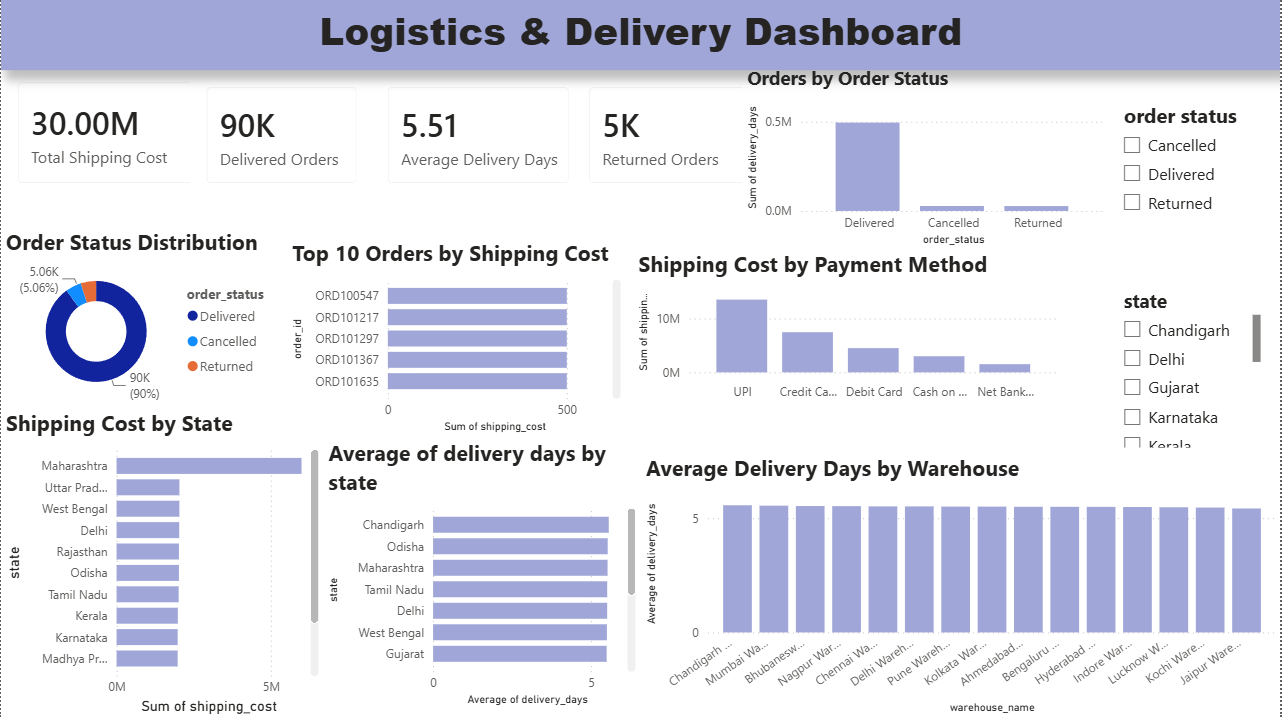

This screenshot's page, from the dashboard's own definition file:
{"tool":"powerbi","page":{"name":"Logistics Dashboard","canvas":[1280,720],"ordinal":3},"visuals":[{"type":"cardVisual","fields":{"Data":["public calendar.Total Shipping Cost"]},"box":[0,65.7,211.4,135.7],"z":0},{"type":"cardVisual","fields":{"Data":["public calendar.Average Delivery Days"]},"box":[370,71.4,215.7,130],"z":1000},{"type":"cardVisual","fields":{"Data":["public calendar.Delivered Orders"]},"box":[188.6,71.4,184.3,130],"z":2000},{"type":"cardVisual","fields":{"Data":["public calendar.Returned Orders"]},"box":[571.4,71.4,215.7,130],"z":3000},{"type":"donutChart","title":"Order Status Distribution","fields":{"Category":["public orders.order_status"],"Y":["CountNonNull(public orders.order_id)"]},"box":[0,227.1,285.7,181.4],"z":4000},{"type":"clusteredBarChart","title":"Shipping Cost by State","fields":{"Category":["public warehouses.state"],"Y":["Sum(public orders.shipping_cost)"]},"box":[0,408.6,322.9,311.4],"z":5000},{"type":"clusteredColumnChart","title":"Average Delivery Days by Warehouse","fields":{"Category":["public warehouses.warehouse_name"],"Y":["Avg(public orders.delivery_days)"]},"box":[640,454.3,640,265.7],"z":6000},{"type":"clusteredColumnChart","title":"Shipping Cost by Payment Method","fields":{"Category":["public orders.payment_method"],"Y":["Sum(public orders.shipping_cost)"]},"box":[632.9,250,430,158.6],"z":7000},{"type":"clusteredBarChart","title":"Average of delivery days by state","fields":{"Category":["public warehouses.state"],"Y":["Avg(public orders.delivery_days)"]},"box":[322.9,438.6,317.1,272.9],"z":8000},{"type":"clusteredBarChart","title":"Top 10 Orders by Shipping Cost","fields":{"Category":["public orders.order_id"],"Y":["Sum(public orders.shipping_cost)"]},"box":[285.7,238.6,338.6,200],"z":9000},{"type":"clusteredColumnChart","title":"Orders by Order Status","fields":{"Category":["public orders.order_status"],"Y":["Sum(public orders.delivery_days)"]},"box":[741.4,65.7,368.6,185.7],"z":10000},{"type":"textbox","box":[0,0,1280,71.4],"z":11000},{"type":"slicer","fields":{"Values":["public warehouses.state"]},"box":[1110,284.3,154.3,170],"z":12000},{"type":"slicer","fields":{"Values":["public orders.order_status"]},"box":[1110,97.1,170,130],"z":13000}]}

Visuals, with their boxes in screenshot pixels (x1, y1, x2, y2), scaled from the page's 1280x720 canvas onto the 1282x717 screenshot:
cardVisual - public calendar.Total Shipping Cost: locate(0, 65, 212, 201)
cardVisual - public calendar.Average Delivery Days: locate(371, 71, 587, 201)
cardVisual - public calendar.Delivered Orders: locate(189, 71, 373, 201)
cardVisual - public calendar.Returned Orders: locate(572, 71, 788, 201)
"Order Status Distribution" donutChart: locate(0, 226, 286, 407)
"Shipping Cost by State" clusteredBarChart: locate(0, 407, 323, 716)
"Average Delivery Days by Warehouse" clusteredColumnChart: locate(641, 452, 1281, 716)
"Shipping Cost by Payment Method" clusteredColumnChart: locate(634, 249, 1065, 407)
"Average of delivery days by state" clusteredBarChart: locate(323, 437, 641, 709)
"Top 10 Orders by Shipping Cost" clusteredBarChart: locate(286, 238, 625, 437)
"Orders by Order Status" clusteredColumnChart: locate(743, 65, 1112, 250)
textbox: locate(0, 0, 1281, 71)
slicer - public warehouses.state: locate(1112, 283, 1266, 452)
slicer - public orders.order_status: locate(1112, 97, 1281, 226)
